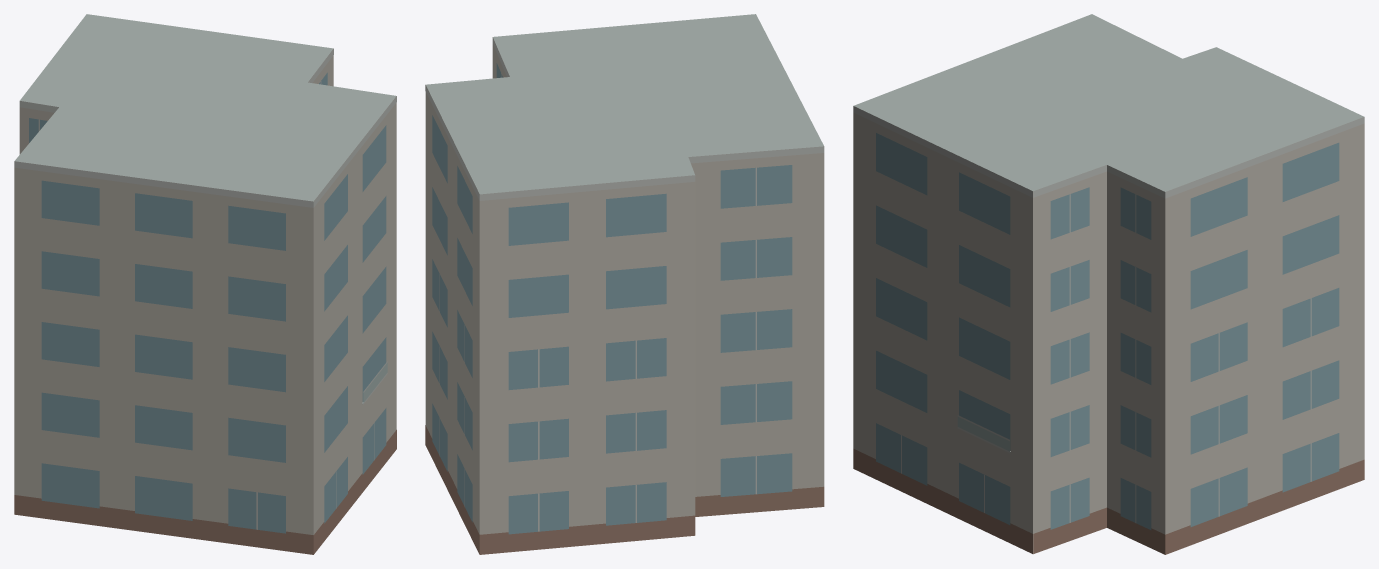
File: survey-upis-32560847.glb
3 views of the same model, side by side, from view 1: azimuth 30°, elevation 25°; view 2: azimuth 150°, elevation 25°; view 3: azimuth 270°, elevation 25° (orthographic). The views are drawn at different scales.
Visible parts, largest first — view 1: survey-upis-32560847.tmp; view 2: survey-upis-32560847.tmp; view 3: survey-upis-32560847.tmp.
Part boxes in pixels (<box>): survey-upis-32560847.tmp: <box>14,14,396,554</box>; survey-upis-32560847.tmp: <box>425,14,824,554</box>; survey-upis-32560847.tmp: <box>853,14,1364,554</box>.
Size of the model in its own units: 14.1 by 13.4 by 17.11.
